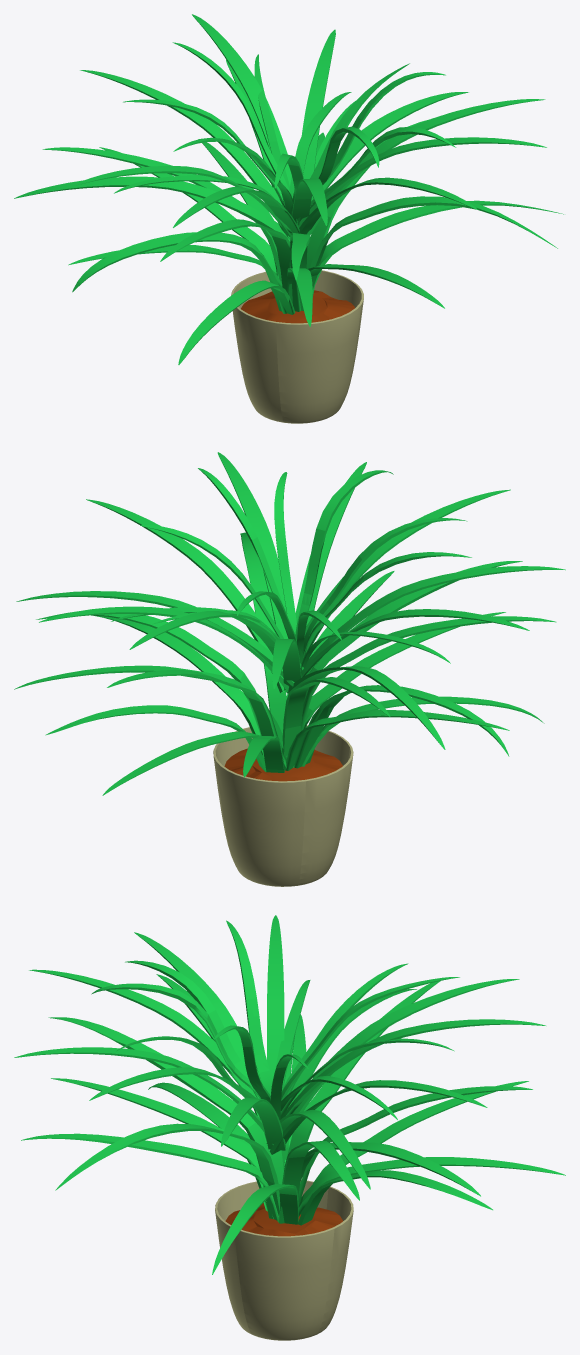
File: house plant.obj
3 views of the same model, one above another, from view 1: azimuth 30°, elevation 25°; view 2: azimuth 150°, elevation 25°; view 3: azimuth 270°, elevation 25° (orthographic). The views are drawn at different scales.
Visible parts, largest first — view 1: (null); view 2: (null); view 3: (null).
Part boxes in pixels (x1,y1,x2,y2): (null): (14, 14, 563, 423); (null): (14, 452, 565, 886); (null): (14, 915, 565, 1340).
Bounding box in the file's own units: 474 × 322 × 469.
